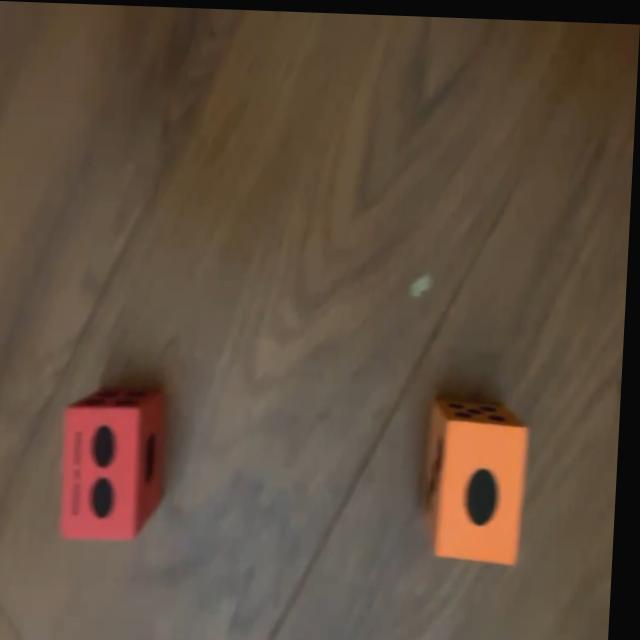cube: (63, 385, 173, 542)
